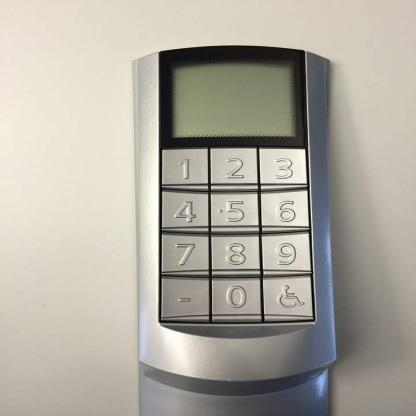-: (158, 274, 209, 318)
0: (209, 273, 262, 319)
1: (158, 146, 210, 186)
2: (207, 145, 259, 186)
3: (256, 145, 308, 185)
4: (158, 186, 209, 228)
5: (209, 186, 260, 228)
6: (258, 186, 309, 228)
7: (158, 230, 209, 272)
8: (210, 230, 260, 272)
9: (260, 230, 310, 272)
CH: (261, 273, 313, 319)
led: (154, 43, 312, 150)
